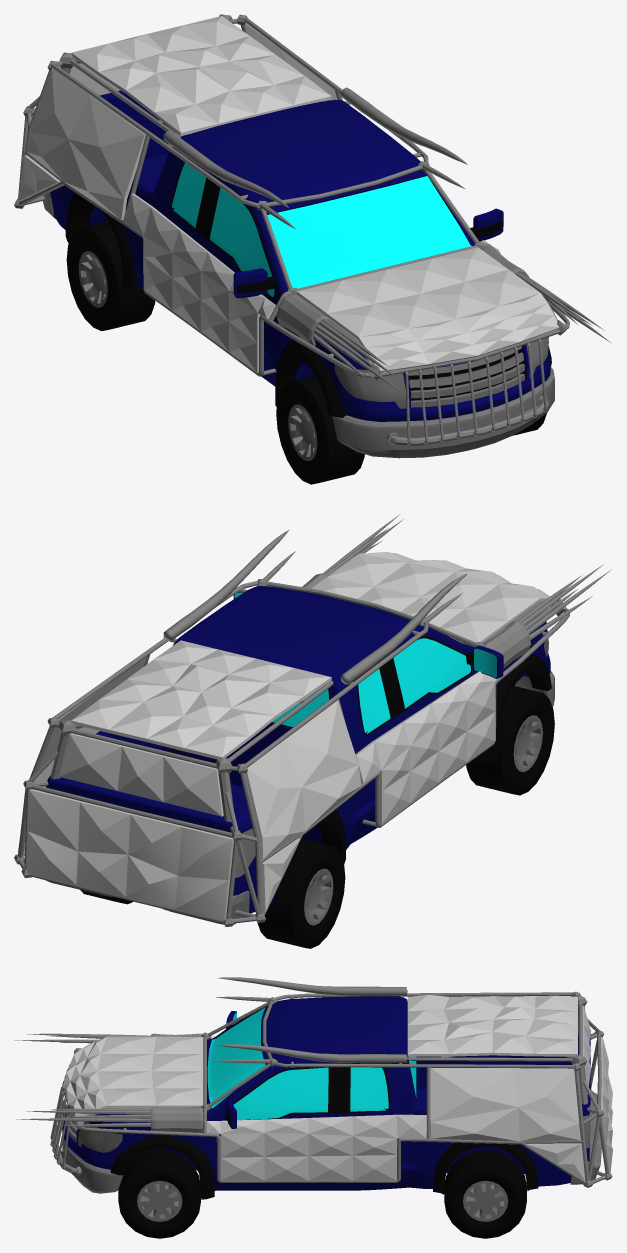
File: Truck Armored.obj
The picture shows the model from 3 angles, top to bottom: view 1: azimuth 30°, elevation 25°; view 2: azimuth 150°, elevation 25°; view 3: azimuth 270°, elevation 25°; orthographic projection. The views are drawn at different scales.
Visible parts, largest first — view 1: Truck Ford_Raptor, Truck Ford_Raptor Roll_Cage Roll_Cage Armor pPlane8, Truck Ford_Raptor Roll_Cage Roll_Cage Armor pPlane7, Truck Ford_Raptor Roll_Cage Roll_Cage, Truck Ford_Raptor Roll_Cage Roll_Cage Armor polySurface27, Truck Ford_Raptor Roll_Cage Roll_Cage polySurface23 Armor, Truck Ford_Raptor Roll_Cage Roll_Cage Armor Spikes Right_Spikes , Truck Ford_Raptor Roll_Cage Roll_Cage Armor Spikes_4_Geo Spikes, Truck Ford_Raptor Roll_Cage Roll_Cage Armor Spikes Left_Spikes p, Truck Ford_Raptor Roll_Cage Roll_Cage Armor polySurface25, Truck Ford_Raptor Roll_Cage Roll_Cage Armor polySurface24; view 2: Truck Ford_Raptor, Truck Ford_Raptor Roll_Cage Roll_Cage Armor pPlane9, Truck Ford_Raptor Roll_Cage Roll_Cage Armor pPlane7, Truck Ford_Raptor Roll_Cage Roll_Cage, Truck Ford_Raptor Roll_Cage Roll_Cage Armor pPlane8, Truck Ford_Raptor Roll_Cage Roll_Cage Armor polySurface27, Truck Ford_Raptor Roll_Cage Roll_Cage polySurface23 Armor, Truck Ford_Raptor Roll_Cage Roll_Cage Armor pPlane10, Truck Ford_Raptor Roll_Cage Roll_Cage Armor Spikes_4_Geo Spikes, Truck Ford_Raptor Roll_Cage Roll_Cage Armor Spikes Right_Spikes , Truck Ford_Raptor Roll_Cage Roll_Cage Armor polySurface24, Truck Ford_Raptor Roll_Cage Roll_Cage Armor polySurface25 (+1 smaller); view 3: Truck Ford_Raptor, Truck Ford_Raptor Roll_Cage Roll_Cage Armor polySurface28, Truck Ford_Raptor Roll_Cage Roll_Cage, Truck Ford_Raptor Roll_Cage Roll_Cage Armor polySurface24, Truck Ford_Raptor Roll_Cage Roll_Cage Armor pPlane7, Truck Ford_Raptor Roll_Cage Roll_Cage Armor pPlane8, Truck Ford_Raptor Roll_Cage Roll_Cage Armor Spikes_4_Geo Spikes, Truck Ford_Raptor Roll_Cage Roll_Cage Armor Spikes Left_Spikes p, Truck Ford_Raptor Roll_Cage Roll_Cage Armor polySurface26, Truck Ford_Raptor Roll_Cage Roll_Cage Armor pPlane9, Truck Ford_Raptor Roll_Cage Roll_Cage Armor Spikes Right_Spikes , Truck Ford_Raptor Roll_Cage Roll_Cage Armor pPlane10 (+1 smaller).
Part boxes in pixels (x1,y1,x2,y2): Truck Ford_Raptor: (42,90,554,484); Truck Ford_Raptor Roll_Cage Roll_Cage Armor pPlane8: (297,247,558,371); Truck Ford_Raptor Roll_Cage Roll_Cage Armor pPlane7: (71,16,331,135); Truck Ford_Raptor Roll_Cage Roll_Cage: (14,14,569,445); Truck Ford_Raptor Roll_Cage Roll_Cage Armor polySurface27: (124,193,275,372); Truck Ford_Raptor Roll_Cage Roll_Cage polySurface23 Armor: (26,68,145,219); Truck Ford_Raptor Roll_Cage Roll_Cage Armor Spikes Right_Spikes : (277,293,403,393); Truck Ford_Raptor Roll_Cage Roll_Cage Armor Spikes_4_Geo Spikes: (163,87,467,208); Truck Ford_Raptor Roll_Cage Roll_Cage Armor Spikes Left_Spikes p: (482,246,611,343); Truck Ford_Raptor Roll_Cage Roll_Cage Armor polySurface25: (18,155,60,201); Truck Ford_Raptor Roll_Cage Roll_Cage Armor polySurface24: (244,23,342,101); Truck Ford_Raptor: (45,586,554,948); Truck Ford_Raptor Roll_Cage Roll_Cage Armor pPlane9: (27,789,233,920); Truck Ford_Raptor Roll_Cage Roll_Cage Armor pPlane7: (71,640,331,759); Truck Ford_Raptor Roll_Cage Roll_Cage: (14,579,569,926); Truck Ford_Raptor Roll_Cage Roll_Cage Armor pPlane8: (311,551,556,642); Truck Ford_Raptor Roll_Cage Roll_Cage Armor polySurface27: (355,671,503,823); Truck Ford_Raptor Roll_Cage Roll_Cage polySurface23 Armor: (245,700,361,858); Truck Ford_Raptor Roll_Cage Roll_Cage Armor pPlane10: (59,733,223,816); Truck Ford_Raptor Roll_Cage Roll_Cage Armor Spikes_4_Geo Spikes: (163,529,467,684); Truck Ford_Raptor Roll_Cage Roll_Cage Armor Spikes Right_Spikes : (483,564,611,668); Truck Ford_Raptor Roll_Cage Roll_Cage Armor polySurface24: (33,656,147,791); Truck Ford_Raptor Roll_Cage Roll_Cage Armor polySurface25: (261,838,299,912); Truck Ford_Raptor: (62,996,601,1238); Truck Ford_Raptor Roll_Cage Roll_Cage Armor polySurface28: (206,1114,426,1180); Truck Ford_Raptor Roll_Cage Roll_Cage: (50,991,612,1187); Truck Ford_Raptor Roll_Cage Roll_Cage Armor polySurface24: (430,1067,580,1141); Truck Ford_Raptor Roll_Cage Roll_Cage Armor pPlane7: (407,995,577,1056); Truck Ford_Raptor Roll_Cage Roll_Cage Armor pPlane8: (63,1036,203,1118); Truck Ford_Raptor Roll_Cage Roll_Cage Armor Spikes_4_Geo Spikes: (217,977,407,1063); Truck Ford_Raptor Roll_Cage Roll_Cage Armor Spikes Left_Spikes p: (16,1107,203,1132); Truck Ford_Raptor Roll_Cage Roll_Cage Armor polySurface26: (527,1143,585,1181); Truck Ford_Raptor Roll_Cage Roll_Cage Armor pPlane9: (601,1037,612,1173); Truck Ford_Raptor Roll_Cage Roll_Cage Armor Spikes Right_Spikes : (14,1033,202,1043); Truck Ford_Raptor Roll_Cage Roll_Cage Armor pPlane10: (582,1005,591,1094).
Size of the model in its own units: 21.23 by 18.25 by 52.79.
